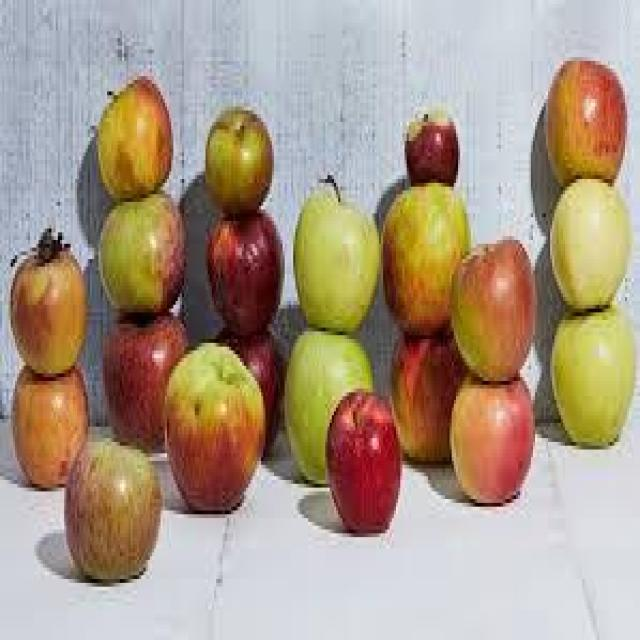apple: (269, 320, 376, 472), (449, 358, 546, 518), (291, 168, 379, 342), (90, 278, 180, 446), (167, 354, 259, 514), (370, 186, 473, 328), (452, 240, 546, 377), (88, 190, 180, 328), (542, 57, 630, 198), (390, 328, 478, 468), (326, 385, 404, 537), (550, 316, 636, 446), (550, 183, 632, 301), (13, 228, 90, 350), (197, 103, 280, 213), (15, 362, 86, 480), (396, 103, 467, 194)
